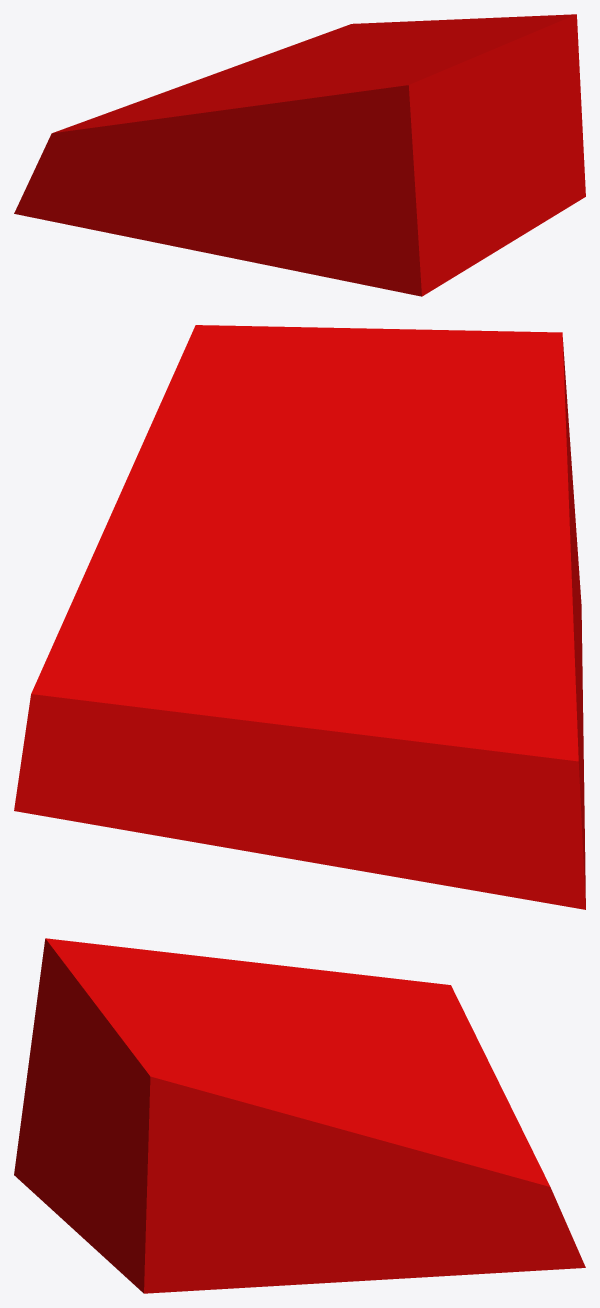
File: SM_Env_RoadPiece_Damaged_08_Collision.fbx
The picture shows the model from 3 angles, top to bottom: view 1: azimuth 30°, elevation 25°; view 2: azimuth 150°, elevation 25°; view 3: azimuth 270°, elevation 25°; orthographic projection. The views are drawn at different scales.
Parts seen in each view (by area): view 1: SM_Env_RoadPiece_Damaged_08_Collision; view 2: SM_Env_RoadPiece_Damaged_08_Collision; view 3: SM_Env_RoadPiece_Damaged_08_Collision.
Part boxes in pixels (x1,y1,x2,y2): SM_Env_RoadPiece_Damaged_08_Collision: (14, 14, 585, 296); SM_Env_RoadPiece_Damaged_08_Collision: (14, 325, 585, 909); SM_Env_RoadPiece_Damaged_08_Collision: (14, 938, 585, 1293).
Size of the model in its own units: 228 by 111 by 227.
